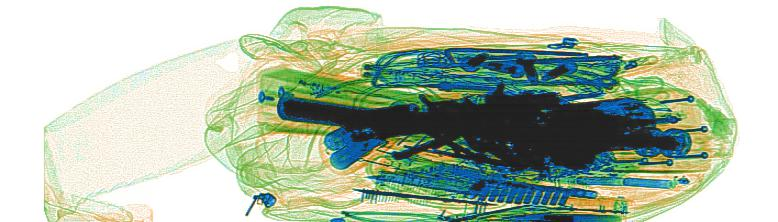battery: (321, 114, 390, 172), (571, 171, 675, 191)
